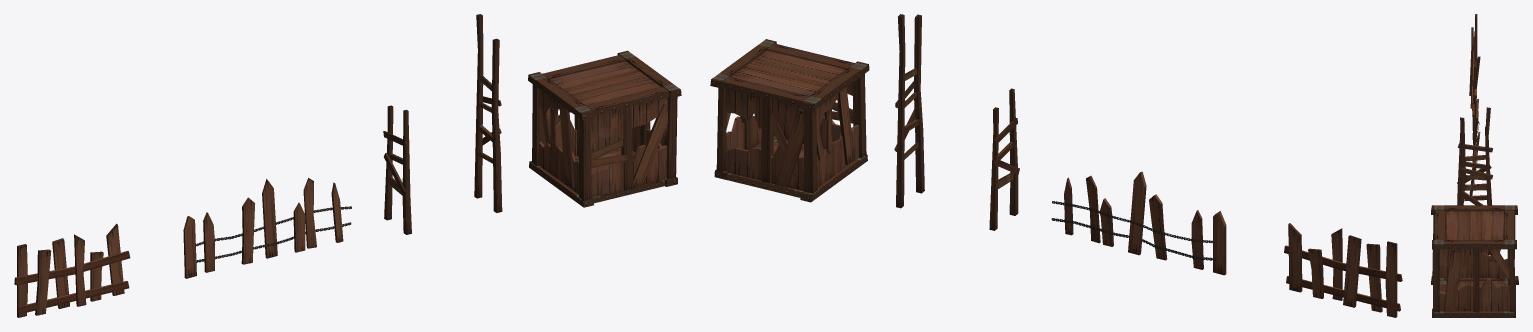
The model's file is 2_YiZhan_BaiJian_01.FBX.
3 renders of one model, left to right at view 1: azimuth 30°, elevation 25°; view 2: azimuth 150°, elevation 25°; view 3: azimuth 270°, elevation 25°, orthographic. The views are drawn at different scales.
Visible parts, largest first — view 1: 2_YiZhan_BaiJian_04, 2_YiZhan_BaiJian_01, 2_YiZhan_BaiJian_02_02, 2_YiZhan_BaiJian_03_01, 2_YiZhan_BaiJian_03_02, 2_YiZhan_BaiJian_02_01; view 2: 2_YiZhan_BaiJian_04, 2_YiZhan_BaiJian_01, 2_YiZhan_BaiJian_02_02, 2_YiZhan_BaiJian_03_01, 2_YiZhan_BaiJian_03_02, 2_YiZhan_BaiJian_02_01; view 3: 2_YiZhan_BaiJian_04, 2_YiZhan_BaiJian_03_01, 2_YiZhan_BaiJian_03_02, 2_YiZhan_BaiJian_01, 2_YiZhan_BaiJian_02_02, 2_YiZhan_BaiJian_02_01.
Part boxes in pixels (<box>): 2_YiZhan_BaiJian_04: <box>528,50,681,207</box>; 2_YiZhan_BaiJian_01: <box>14,223,130,317</box>; 2_YiZhan_BaiJian_02_02: <box>196,178,351,272</box>; 2_YiZhan_BaiJian_03_01: <box>474,14,502,212</box>; 2_YiZhan_BaiJian_03_02: <box>383,105,411,234</box>; 2_YiZhan_BaiJian_02_01: <box>183,216,196,278</box>; 2_YiZhan_BaiJian_04: <box>710,39,869,202</box>; 2_YiZhan_BaiJian_01: <box>1284,223,1402,317</box>; 2_YiZhan_BaiJian_02_02: <box>1051,171,1215,269</box>; 2_YiZhan_BaiJian_03_01: <box>894,14,924,208</box>; 2_YiZhan_BaiJian_03_02: <box>989,88,1019,230</box>; 2_YiZhan_BaiJian_02_01: <box>1213,211,1226,275</box>; 2_YiZhan_BaiJian_04: <box>1431,205,1518,317</box>; 2_YiZhan_BaiJian_03_01: <box>1459,107,1492,255</box>; 2_YiZhan_BaiJian_03_02: <box>1457,127,1492,205</box>; 2_YiZhan_BaiJian_01: <box>1469,14,1480,110</box>; 2_YiZhan_BaiJian_02_02: <box>1469,99,1480,195</box>; 2_YiZhan_BaiJian_02_01: <box>1472,89,1476,139</box>.
Bounding box in the file's own units: 2057 × 564 × 306.
